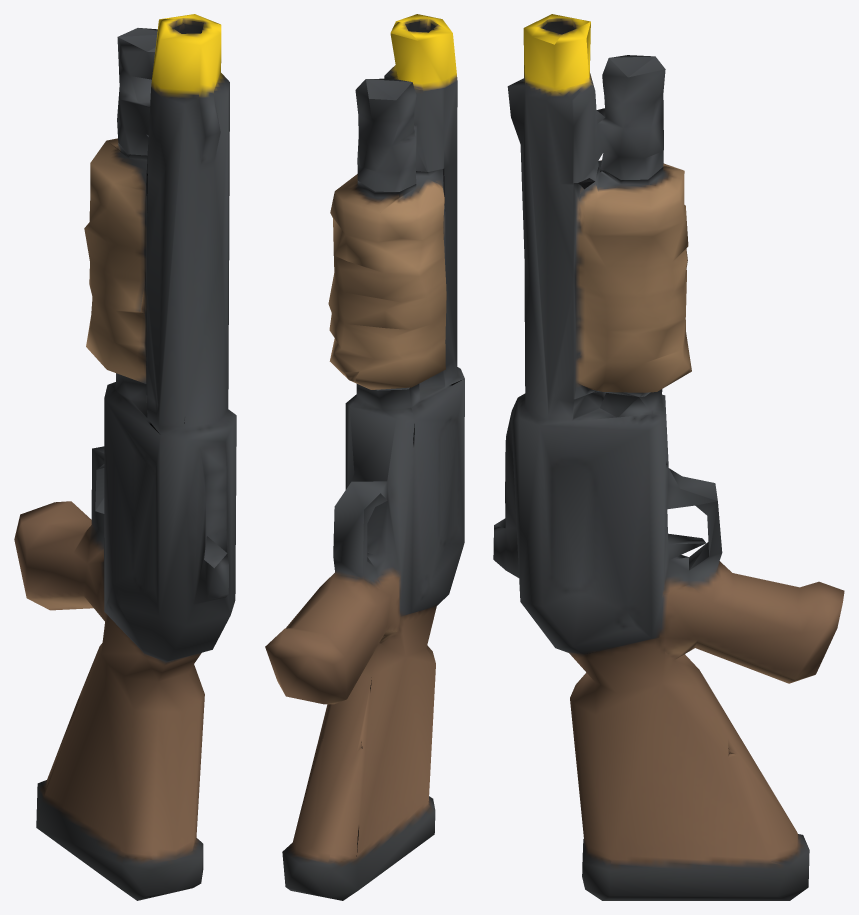
File: breacher.glb
The picture shows the model from 3 angles, left to right: view 1: azimuth 30°, elevation 25°; view 2: azimuth 150°, elevation 25°; view 3: azimuth 270°, elevation 25°; orthographic projection. The views are drawn at different scales.
Parts seen in each view (by area): view 1: breacher, part_pump; view 2: breacher, part_pump; view 3: breacher, part_pump.
Part boxes in pixels (left/top/right/bottom): breacher: left=14, top=14, right=236, bottom=900; part_pump: left=84, top=138, right=147, bottom=395; breacher: left=265, top=14, right=464, bottom=900; part_pump: left=328, top=168, right=446, bottom=390; breacher: left=493, top=14, right=844, bottom=900; part_pump: left=573, top=160, right=689, bottom=399.
Bounding box in the file's own units: 0.1211 × 0.9453 × 0.3488.
Materials: 1 (1 with a texture image).
